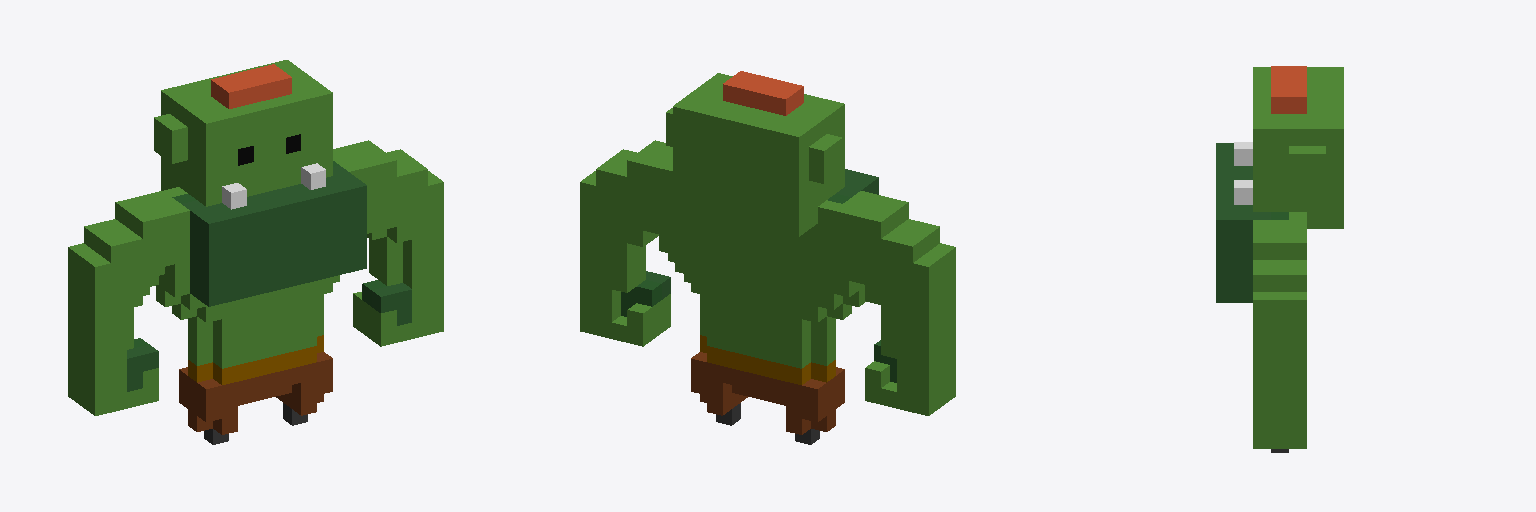
3 views of the same model, side by side, from view 1: azimuth 30°, elevation 25°; view 2: azimuth 150°, elevation 25°; view 3: azimuth 270°, elevation 25° (orthographic).
Size of the model in its own units: 22 by 21 by 7.
Materials: 1 (1 with a texture image).